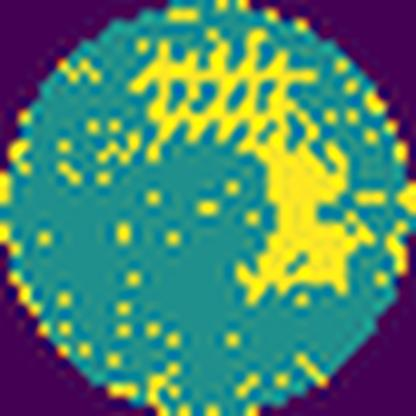Donut: (113, 21, 387, 310)
